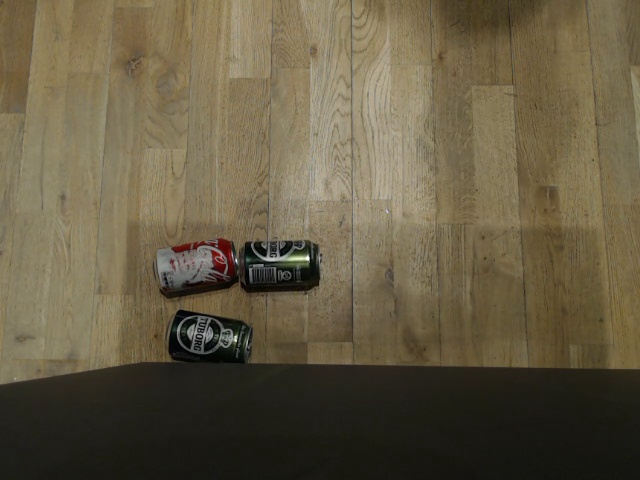beer: (239, 233, 327, 295), (160, 310, 255, 364)
cola: (136, 233, 228, 295)
